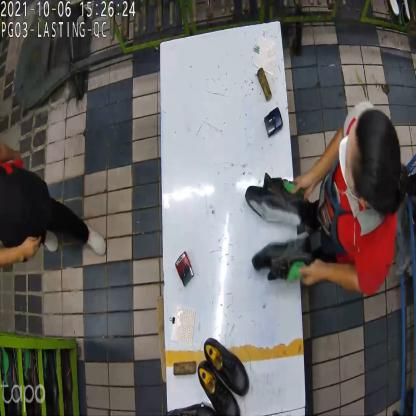shoes: (244, 177, 320, 278), (198, 340, 256, 415)
stamp: (264, 108, 284, 140), (176, 247, 192, 282)
